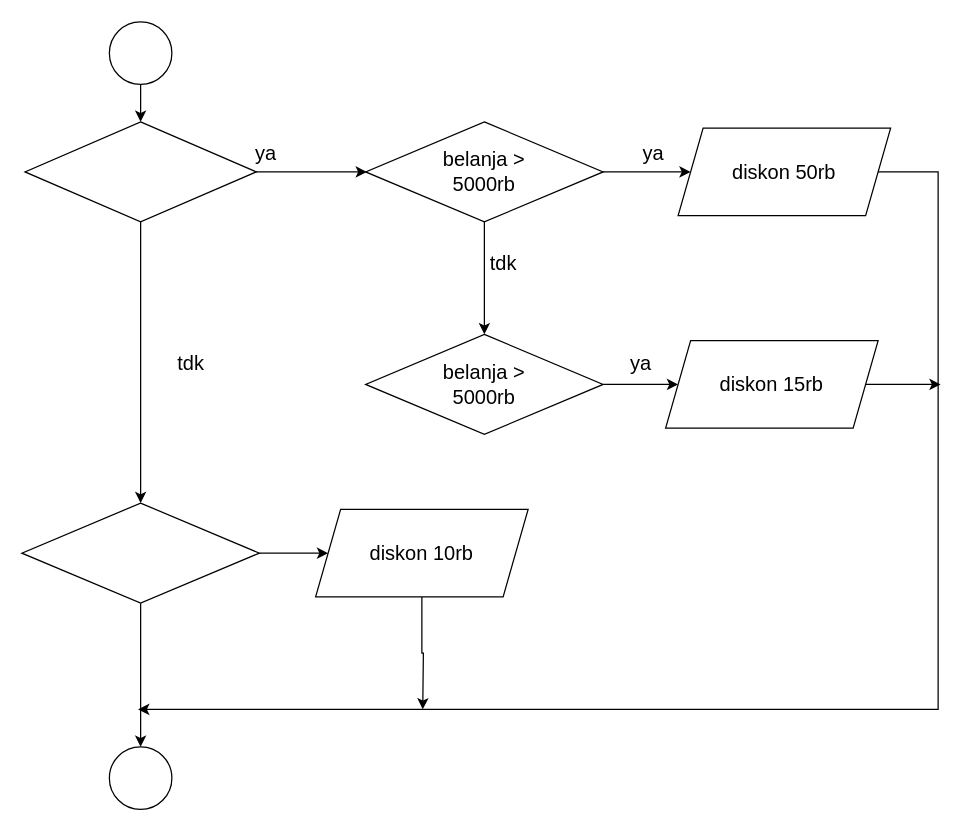
Some shapes in this 973 by 831 pixel diagram are drawn without their labels. Each missing label, with the centre of its shape:
"belanja > 100rb" goes at (x=140, y=552).
"member?" goes at (x=140, y=171).
